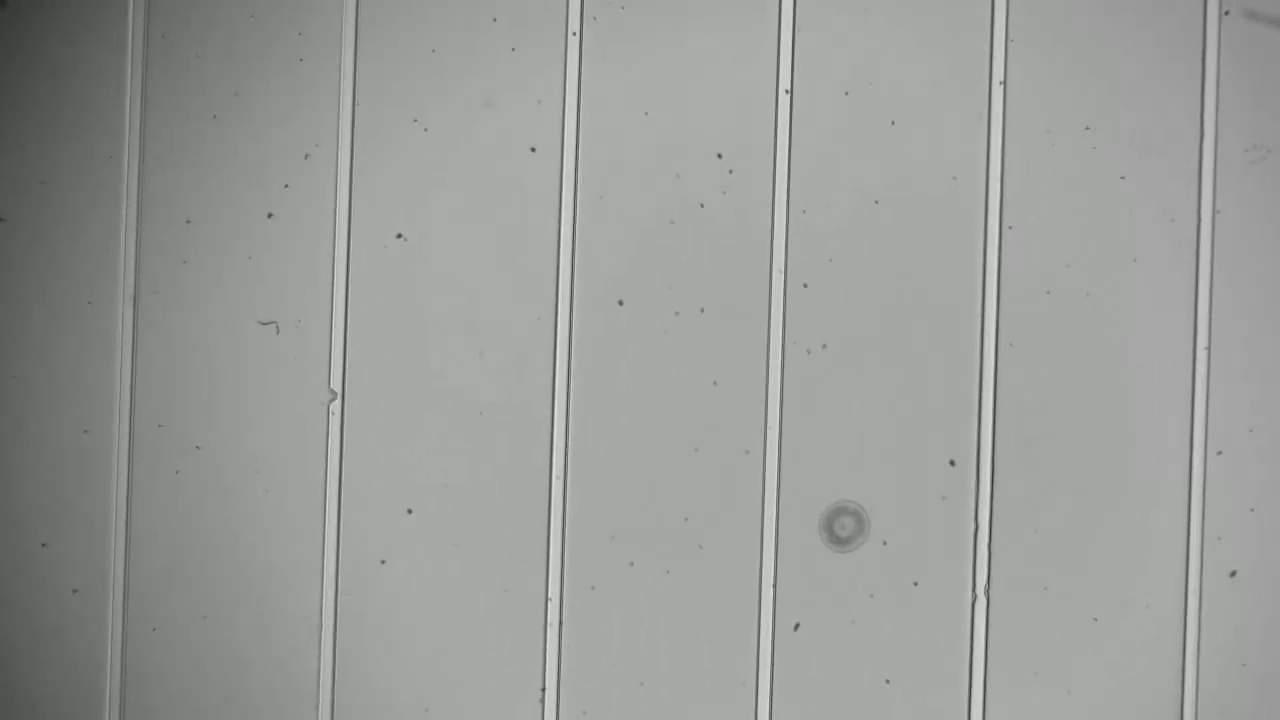edge_bite: (958, 573, 1002, 611), (320, 381, 348, 410)
